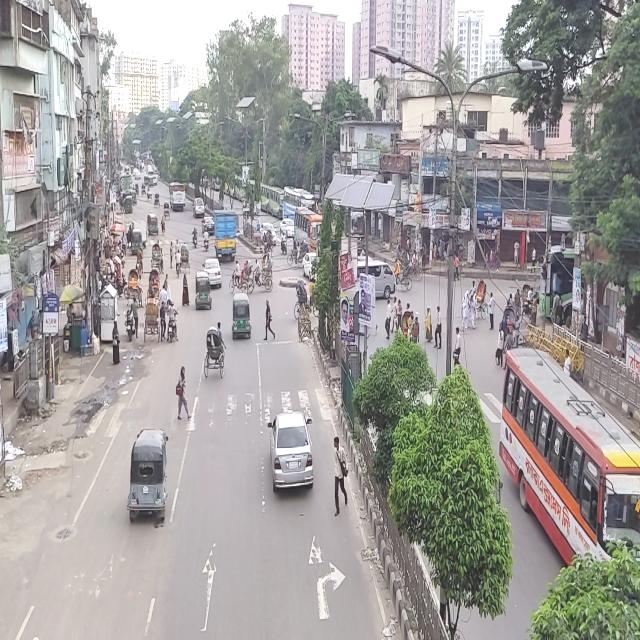silver: (268, 416, 314, 494)
